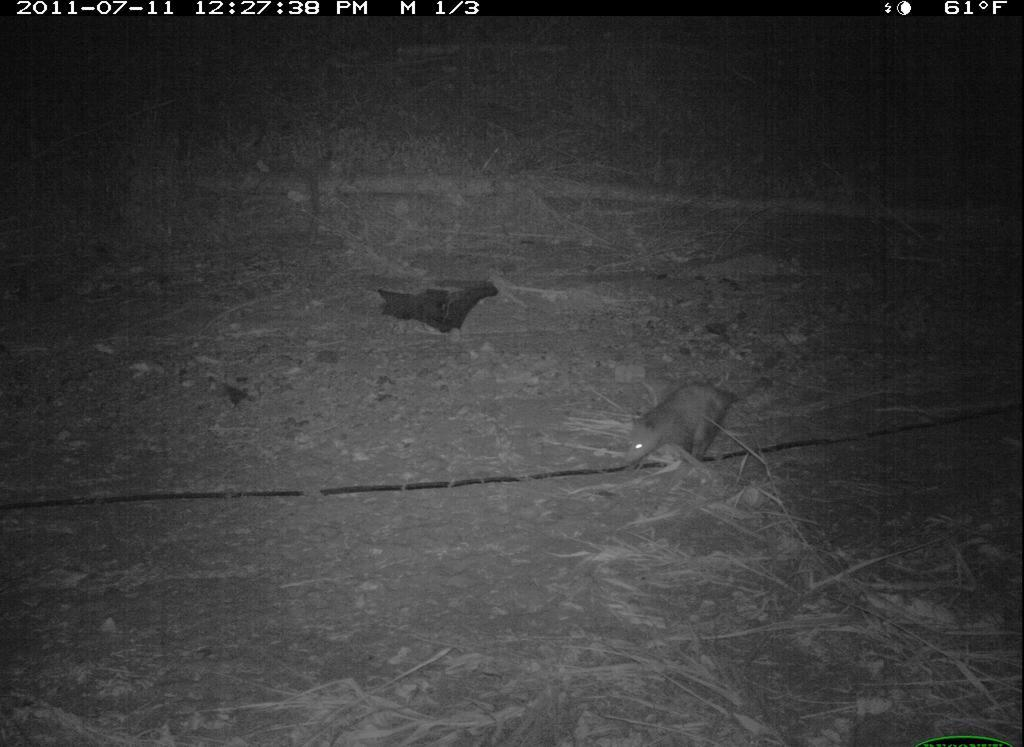opossum: (619, 374, 762, 478)
